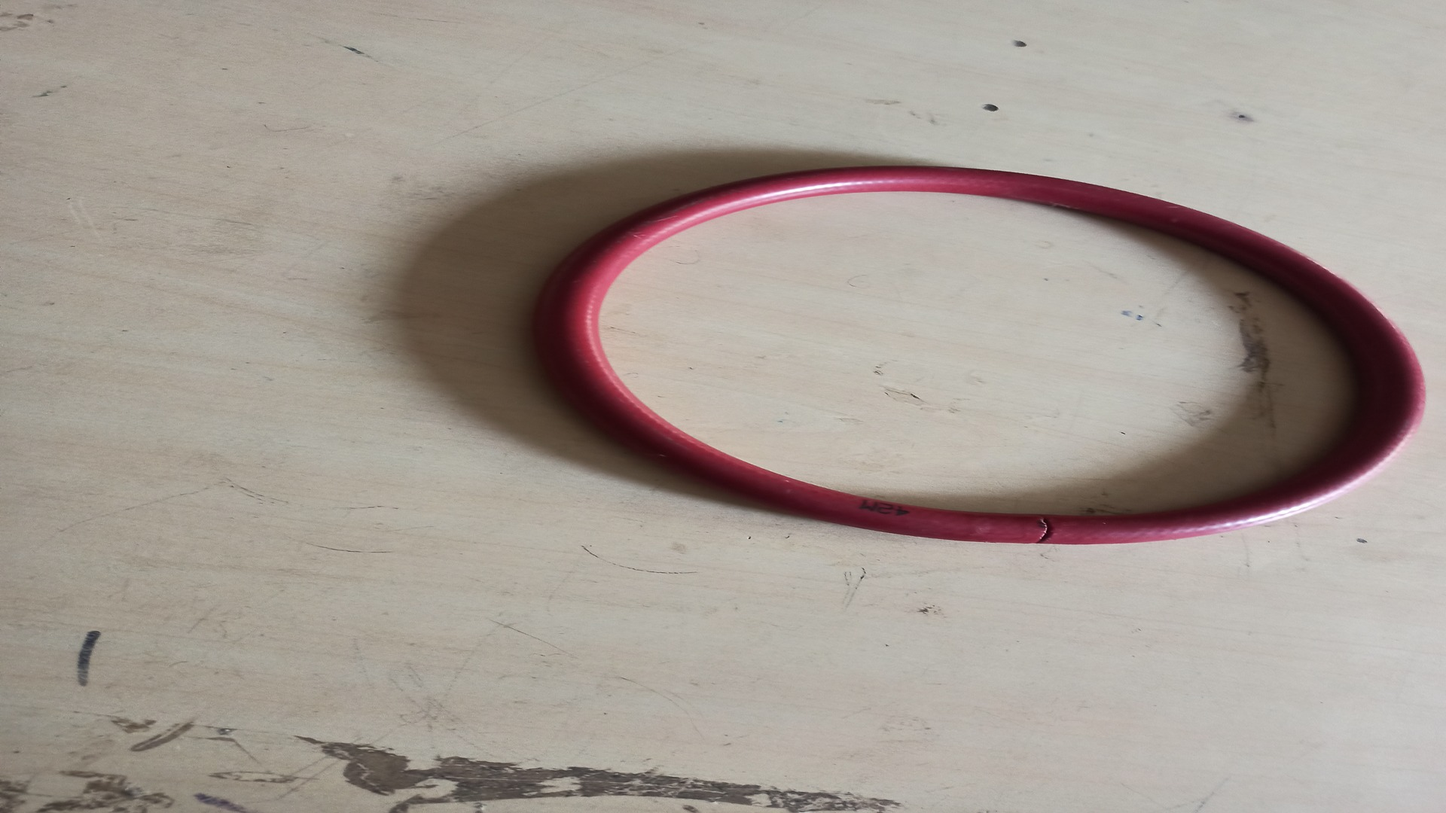Red ring: (549, 168, 1426, 547)
